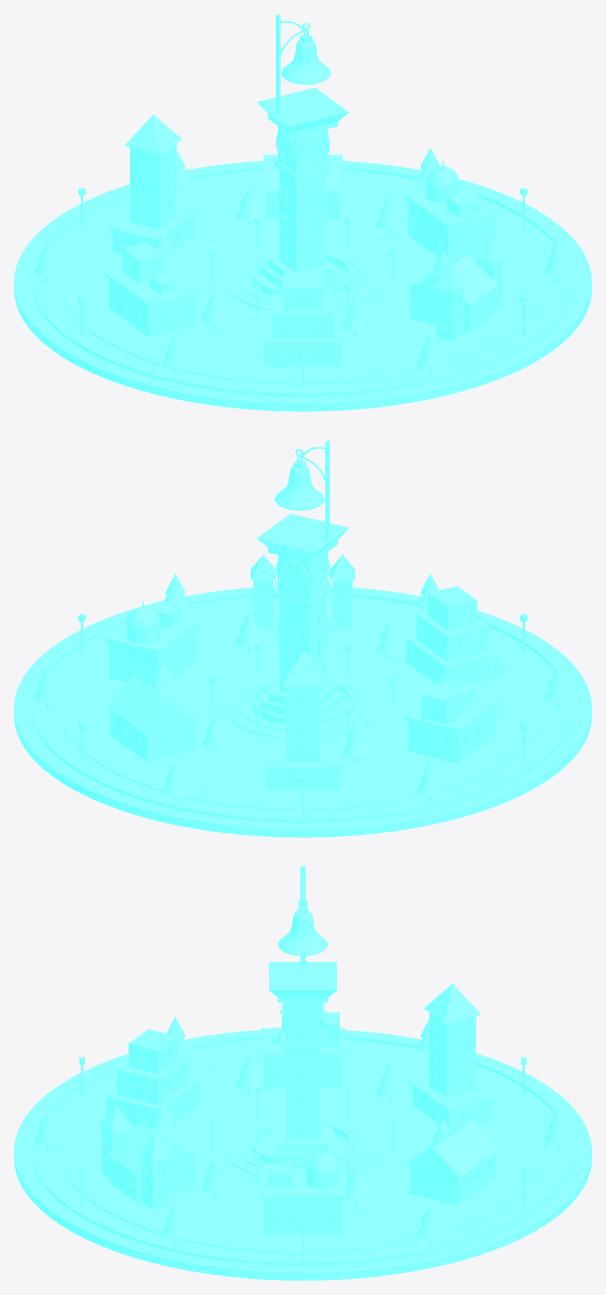
Rendered from MiniTown3.fbx.
3 views of the same model, one above another, from view 1: azimuth 30°, elevation 25°; view 2: azimuth 150°, elevation 25°; view 3: azimuth 270°, elevation 25° (orthographic).
Parts seen in each view (by area): view 1: Roads, Ground, Bldg_Tower, Bldg_Church, Bldg_Stepped, Trees, Bldg_L, Bldg_Dome, ClockTower.005, ClockTower, ClockTower.072, Bldg_Gable (+8 smaller); view 2: Roads, Ground, Bldg_Tower, Bldg_Stepped, Trees, Bldg_Dome, Bldg_L, Bldg_Gable, Bldg_Church, ClockTower, ClockTower.005, ClockTower.072 (+7 smaller); view 3: Roads, Ground, Bldg_Tower, Trees, Bldg_Church, Bldg_Stepped, Bldg_Dome, Bldg_Gable, ClockTower.005, Bldg_L, ClockTower, ClockTower.072 (+8 smaller).
Part boxes in pixels (bbox=[...]): Roads: bbox=[31, 165, 574, 396]; Ground: bbox=[14, 161, 591, 411]; Bldg_Tower: bbox=[109, 114, 197, 253]; Bldg_Church: bbox=[407, 236, 506, 340]; Bldg_Stepped: bbox=[263, 273, 342, 367]; Trees: bbox=[34, 147, 571, 375]; Bldg_L: bbox=[105, 242, 201, 337]; Bldg_Dome: bbox=[404, 158, 500, 261]; ClockTower.005: bbox=[279, 170, 326, 272]; ClockTower: bbox=[223, 246, 382, 310]; ClockTower.072: bbox=[257, 87, 348, 137]; Bldg_Gable: bbox=[263, 154, 342, 220]; Roads: bbox=[31, 590, 574, 822]; Ground: bbox=[14, 586, 591, 837]; Bldg_Tower: bbox=[263, 650, 342, 789]; Bldg_Stepped: bbox=[406, 586, 499, 686]; Trees: bbox=[34, 573, 571, 801]; Bldg_Dome: bbox=[105, 599, 201, 685]; Bldg_L: bbox=[404, 683, 500, 763]; Bldg_Gable: bbox=[107, 676, 199, 762]; Bldg_Church: bbox=[250, 554, 355, 647]; ClockTower: bbox=[223, 672, 382, 738]; ClockTower.005: bbox=[279, 596, 326, 693]; ClockTower.072: bbox=[257, 513, 348, 563]; Roads: bbox=[31, 1034, 574, 1265]; Ground: bbox=[14, 1030, 591, 1280]; Bldg_Tower: bbox=[408, 983, 496, 1131]; Trees: bbox=[34, 1017, 571, 1244]; Bldg_Church: bbox=[99, 1105, 198, 1210]; Bldg_Stepped: bbox=[106, 1029, 199, 1128]; Bldg_Dome: bbox=[260, 1144, 345, 1234]; Bldg_Gable: bbox=[406, 1119, 499, 1205]; ClockTower.005: bbox=[286, 1047, 319, 1139]; Bldg_L: bbox=[260, 1012, 345, 1089]; ClockTower: bbox=[223, 1115, 382, 1177]; ClockTower.072: bbox=[269, 962, 336, 1002].
Bounding box in the file's own units: 2040 × 1090 × 2040.
